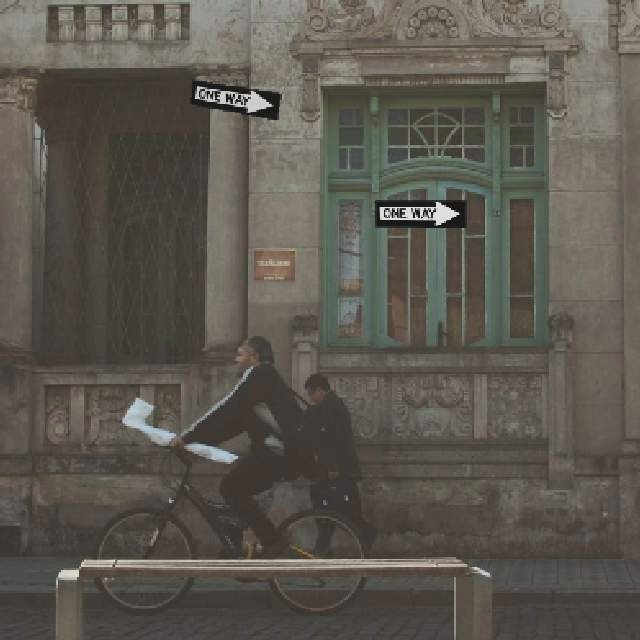ONE_WAY_ right: (188, 78, 280, 119), (373, 198, 465, 227)
